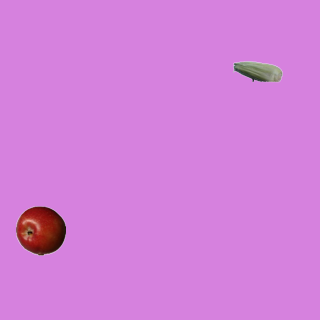Apple Braeburn: (15, 205, 65, 255)
Corn Husk: (232, 46, 282, 96)
